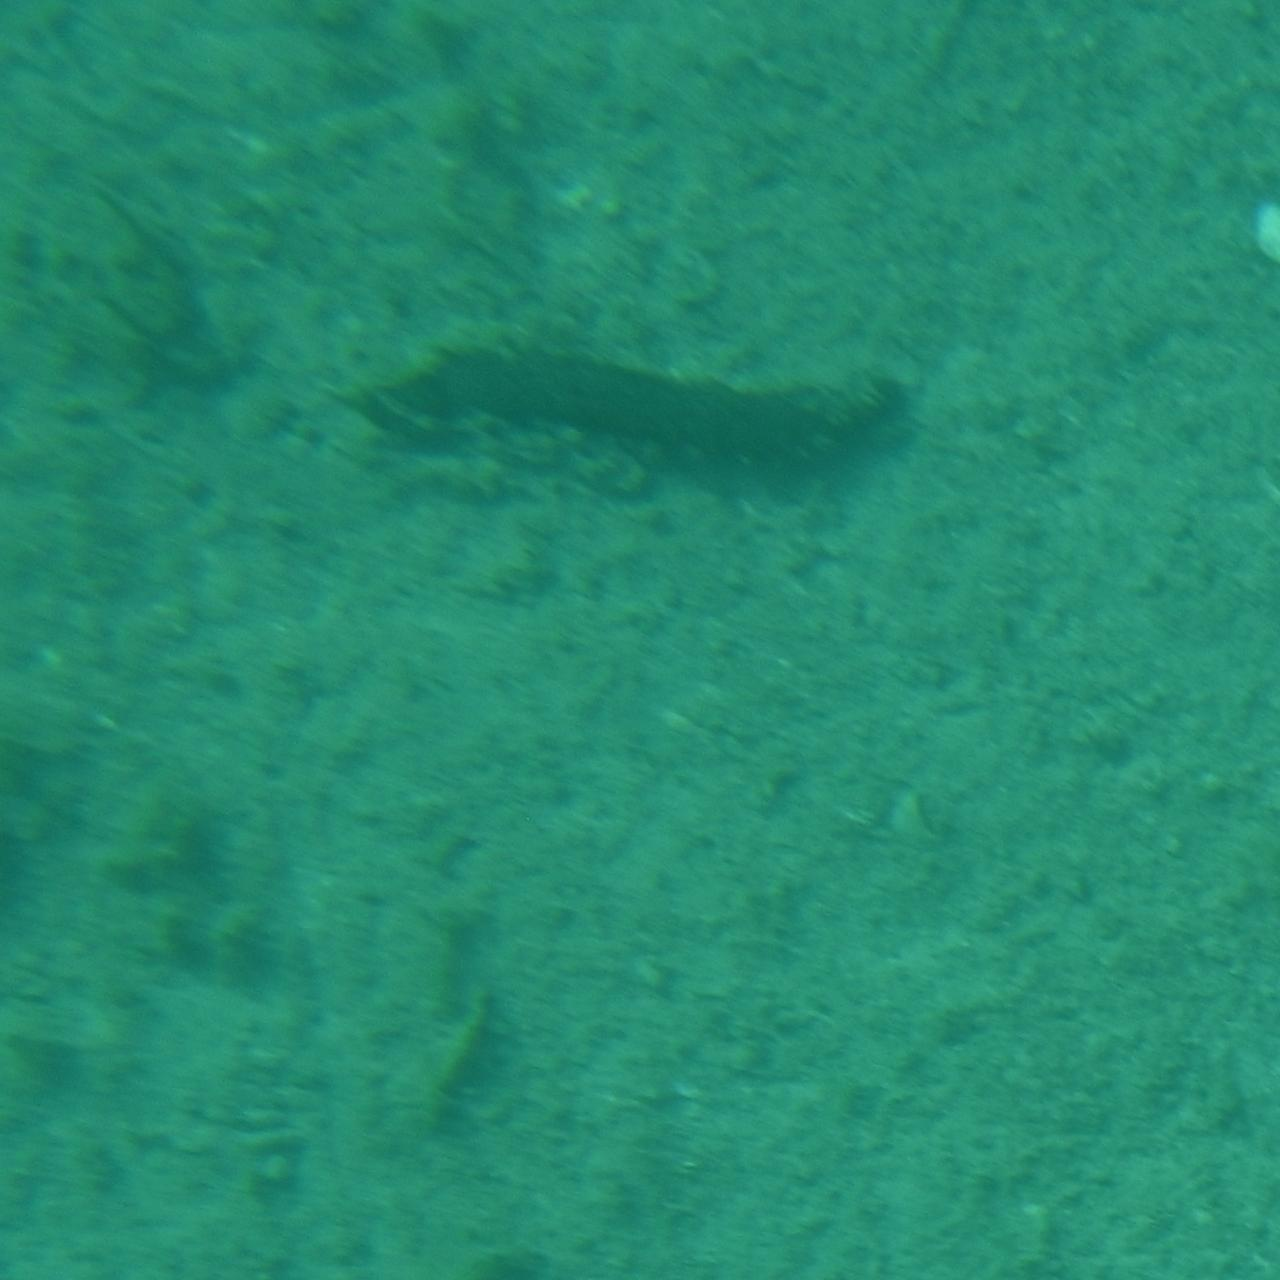Holothuria tubulosa: (348, 331, 932, 491)
